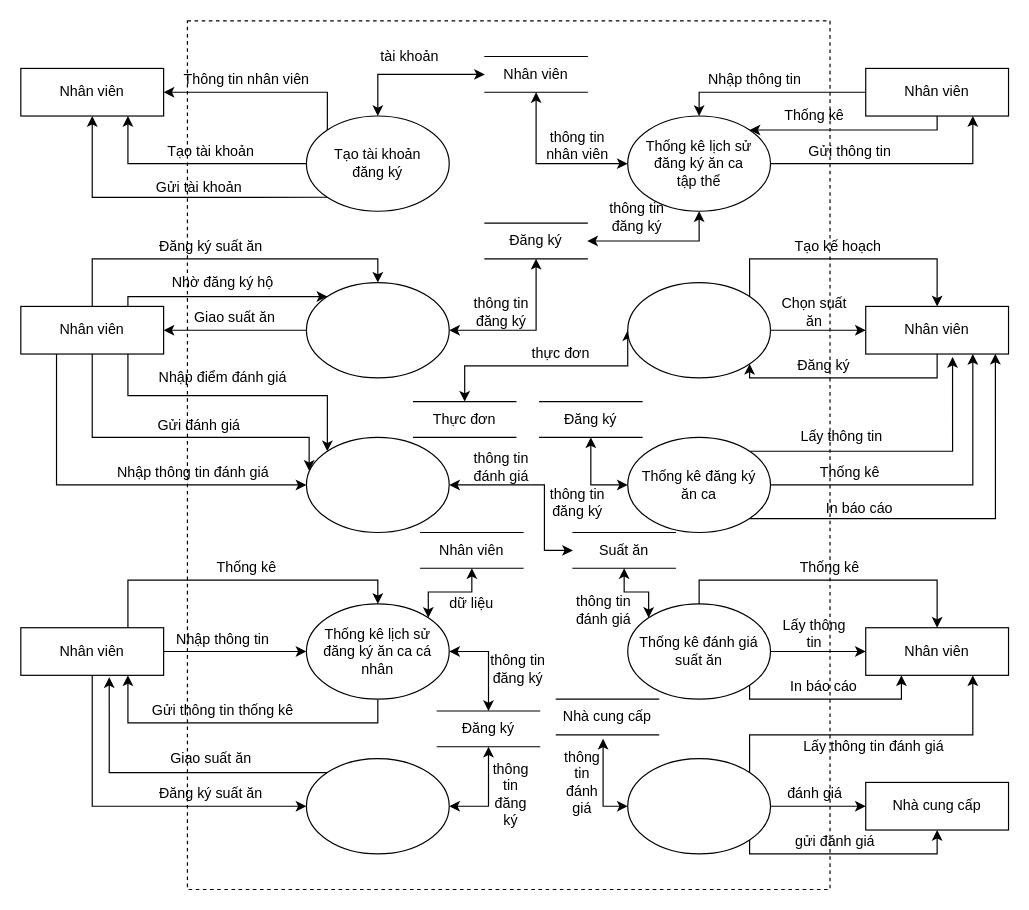
Image size: 1029x910. Some labels were removed from this diagram. The centre of each missing label's shape, as x and y in pixels:
Tạo kế hoạch thực đơn: point (699, 329)
Đánh giá nhà cung cấp: point (699, 805)
Đánh giá suất ăn: point (377, 484)
Đăng ký ăn ca cá nhân: point (377, 329)
Đăng ký ăn ca tập thể: point (377, 805)
